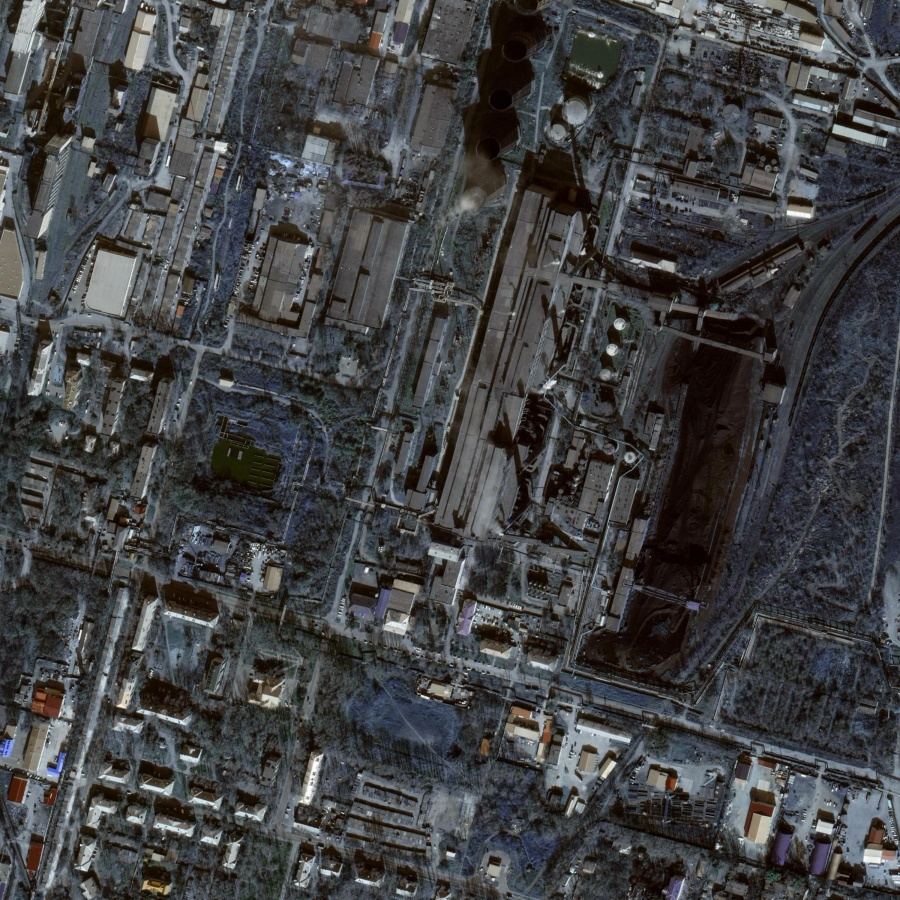PowerPlant: (483, 240, 788, 674)
